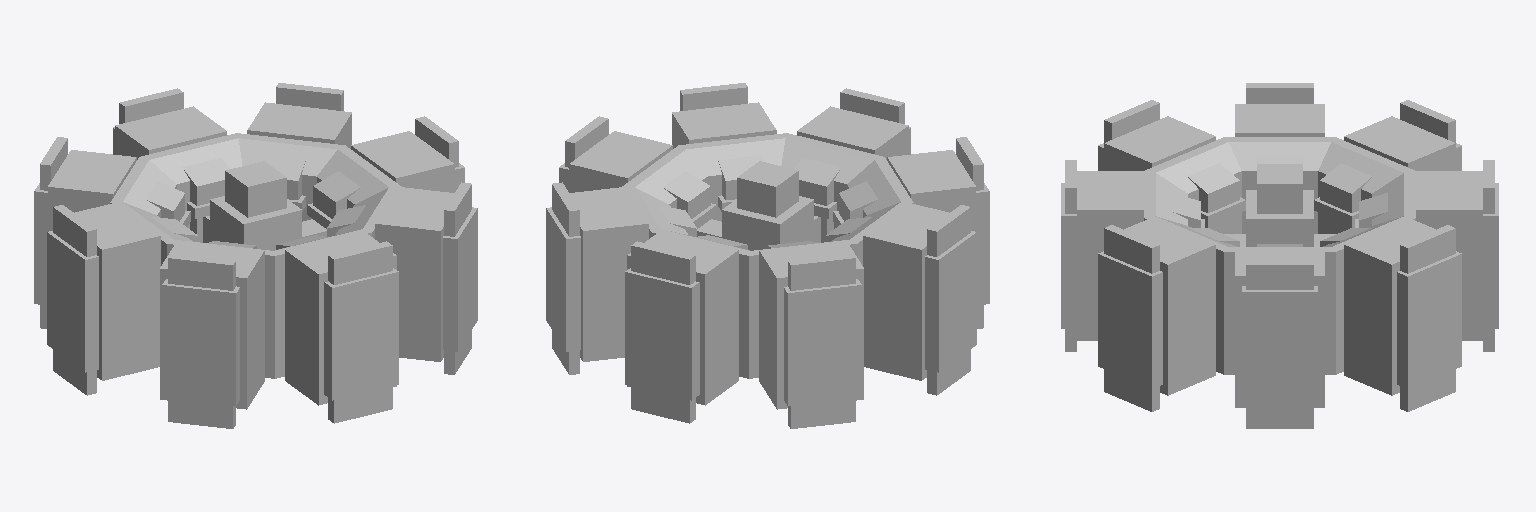
File: generator_coil.obj
3 renders of one model, left to right at view 1: azimuth 30°, elevation 25°; view 2: azimuth 150°, elevation 25°; view 3: azimuth 270°, elevation 25°, orthographic.
Parts seen in each view (by area): view 1: tube, cube.006, cube.032, cube.036, cube.014, cube.012, cube.008, cube.030, cube.038, cube.024, cube.019, cube.033 (+17 smaller); view 2: tube, cube.006, cube.026, cube.042, cube.002, cube, cube.008, cube.024, cube.044, cube.030, cube.019, cube.027 (+17 smaller); view 3: tube, cube.036, cube.042, cube.020, cube.038, cube.044, cube, cube.012, cube.024, cube.030, cube.018, cube.019 (+18 smaller).
Boxes of the visible parts, box(x1,y1,x2,y2) form: tube: box(110, 133, 401, 378); cube.006: box(75, 203, 160, 380); cube.032: box(162, 279, 239, 405); cube.036: box(375, 187, 453, 361); cube.014: box(324, 268, 398, 400); cube.012: box(285, 231, 396, 405); cube.008: box(47, 231, 98, 372); cube.030: box(160, 241, 264, 409); cube.038: box(443, 207, 477, 351); cube.024: box(48, 150, 136, 231); cube.019: box(351, 131, 454, 192); cube.033: box(168, 253, 235, 428); tube: box(622, 133, 913, 378); cube.006: box(863, 203, 948, 380); cube.026: box(784, 279, 861, 405); cube.042: box(570, 187, 648, 361); cube.002: box(625, 268, 699, 400); cube: box(627, 231, 738, 405); cube.008: box(925, 231, 976, 372); cube.024: box(759, 241, 863, 409); cube.044: box(546, 207, 580, 351); cube.030: box(887, 150, 975, 231); cube.019: box(569, 131, 672, 192); cube.027: box(788, 253, 855, 428); tube: box(1144, 137, 1415, 374); cube.036: box(1124, 218, 1215, 395); cube.042: box(1344, 218, 1435, 395); cube.020: box(1242, 286, 1317, 404); cube.038: box(1098, 251, 1162, 388); cube.044: box(1397, 251, 1461, 388); cube: box(1416, 171, 1482, 340); cube.012: box(1077, 171, 1143, 340); cube.024: box(1344, 116, 1455, 170); cube.030: box(1104, 116, 1215, 170); cube.018: box(1246, 260, 1313, 428); cube.019: box(1235, 248, 1324, 407).
Bounding box in the file's own units: 2.42 × 1 × 2.42.